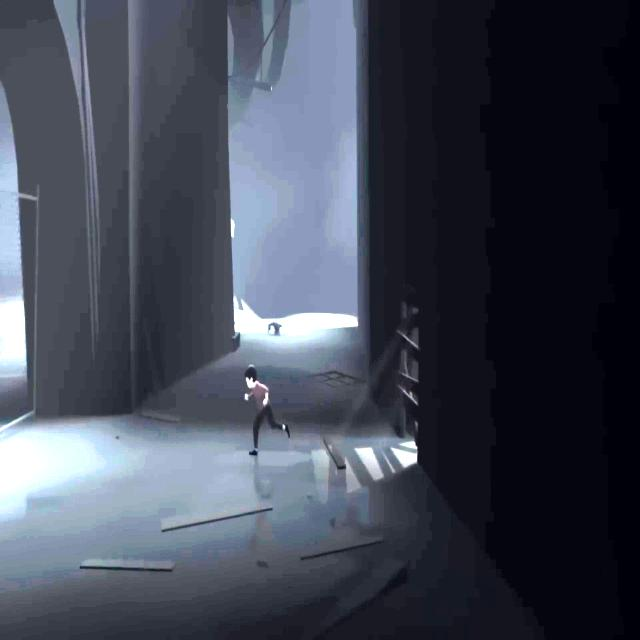dog: (268, 321, 282, 334)
